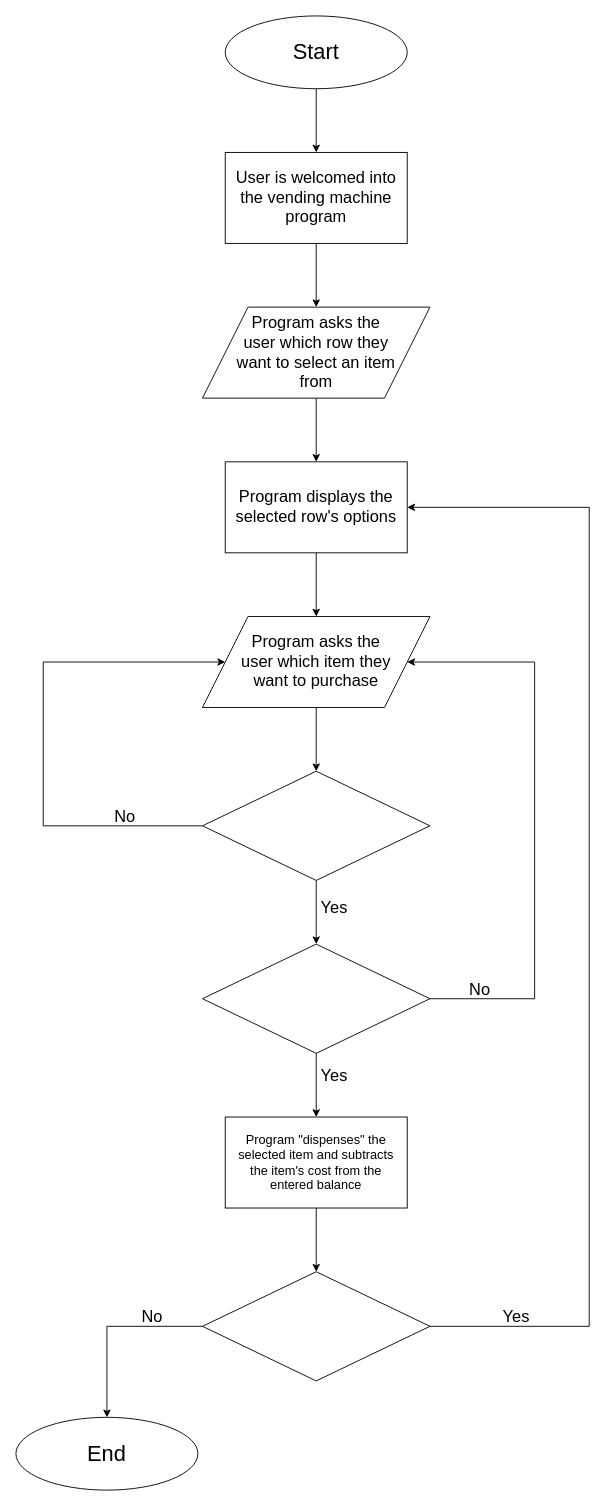
The diagram is 612 pixels wide and 1506 high, and some of its shapes have lost their labels. Each missing label, with the box of its shape:
Does the user want anything else?: (202, 1271, 430, 1381)
Is the desired item available (quantity <= 20)?: (202, 770, 430, 880)
Is the entered balance sufficient?: (202, 943, 430, 1053)
